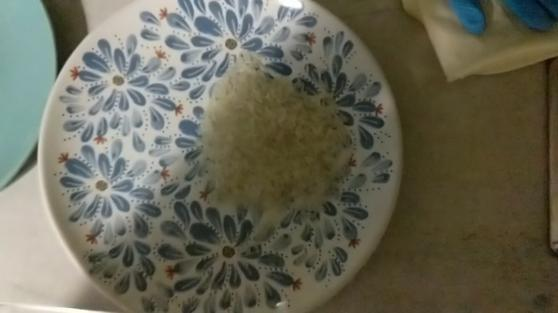rice: (183, 42, 367, 234)
